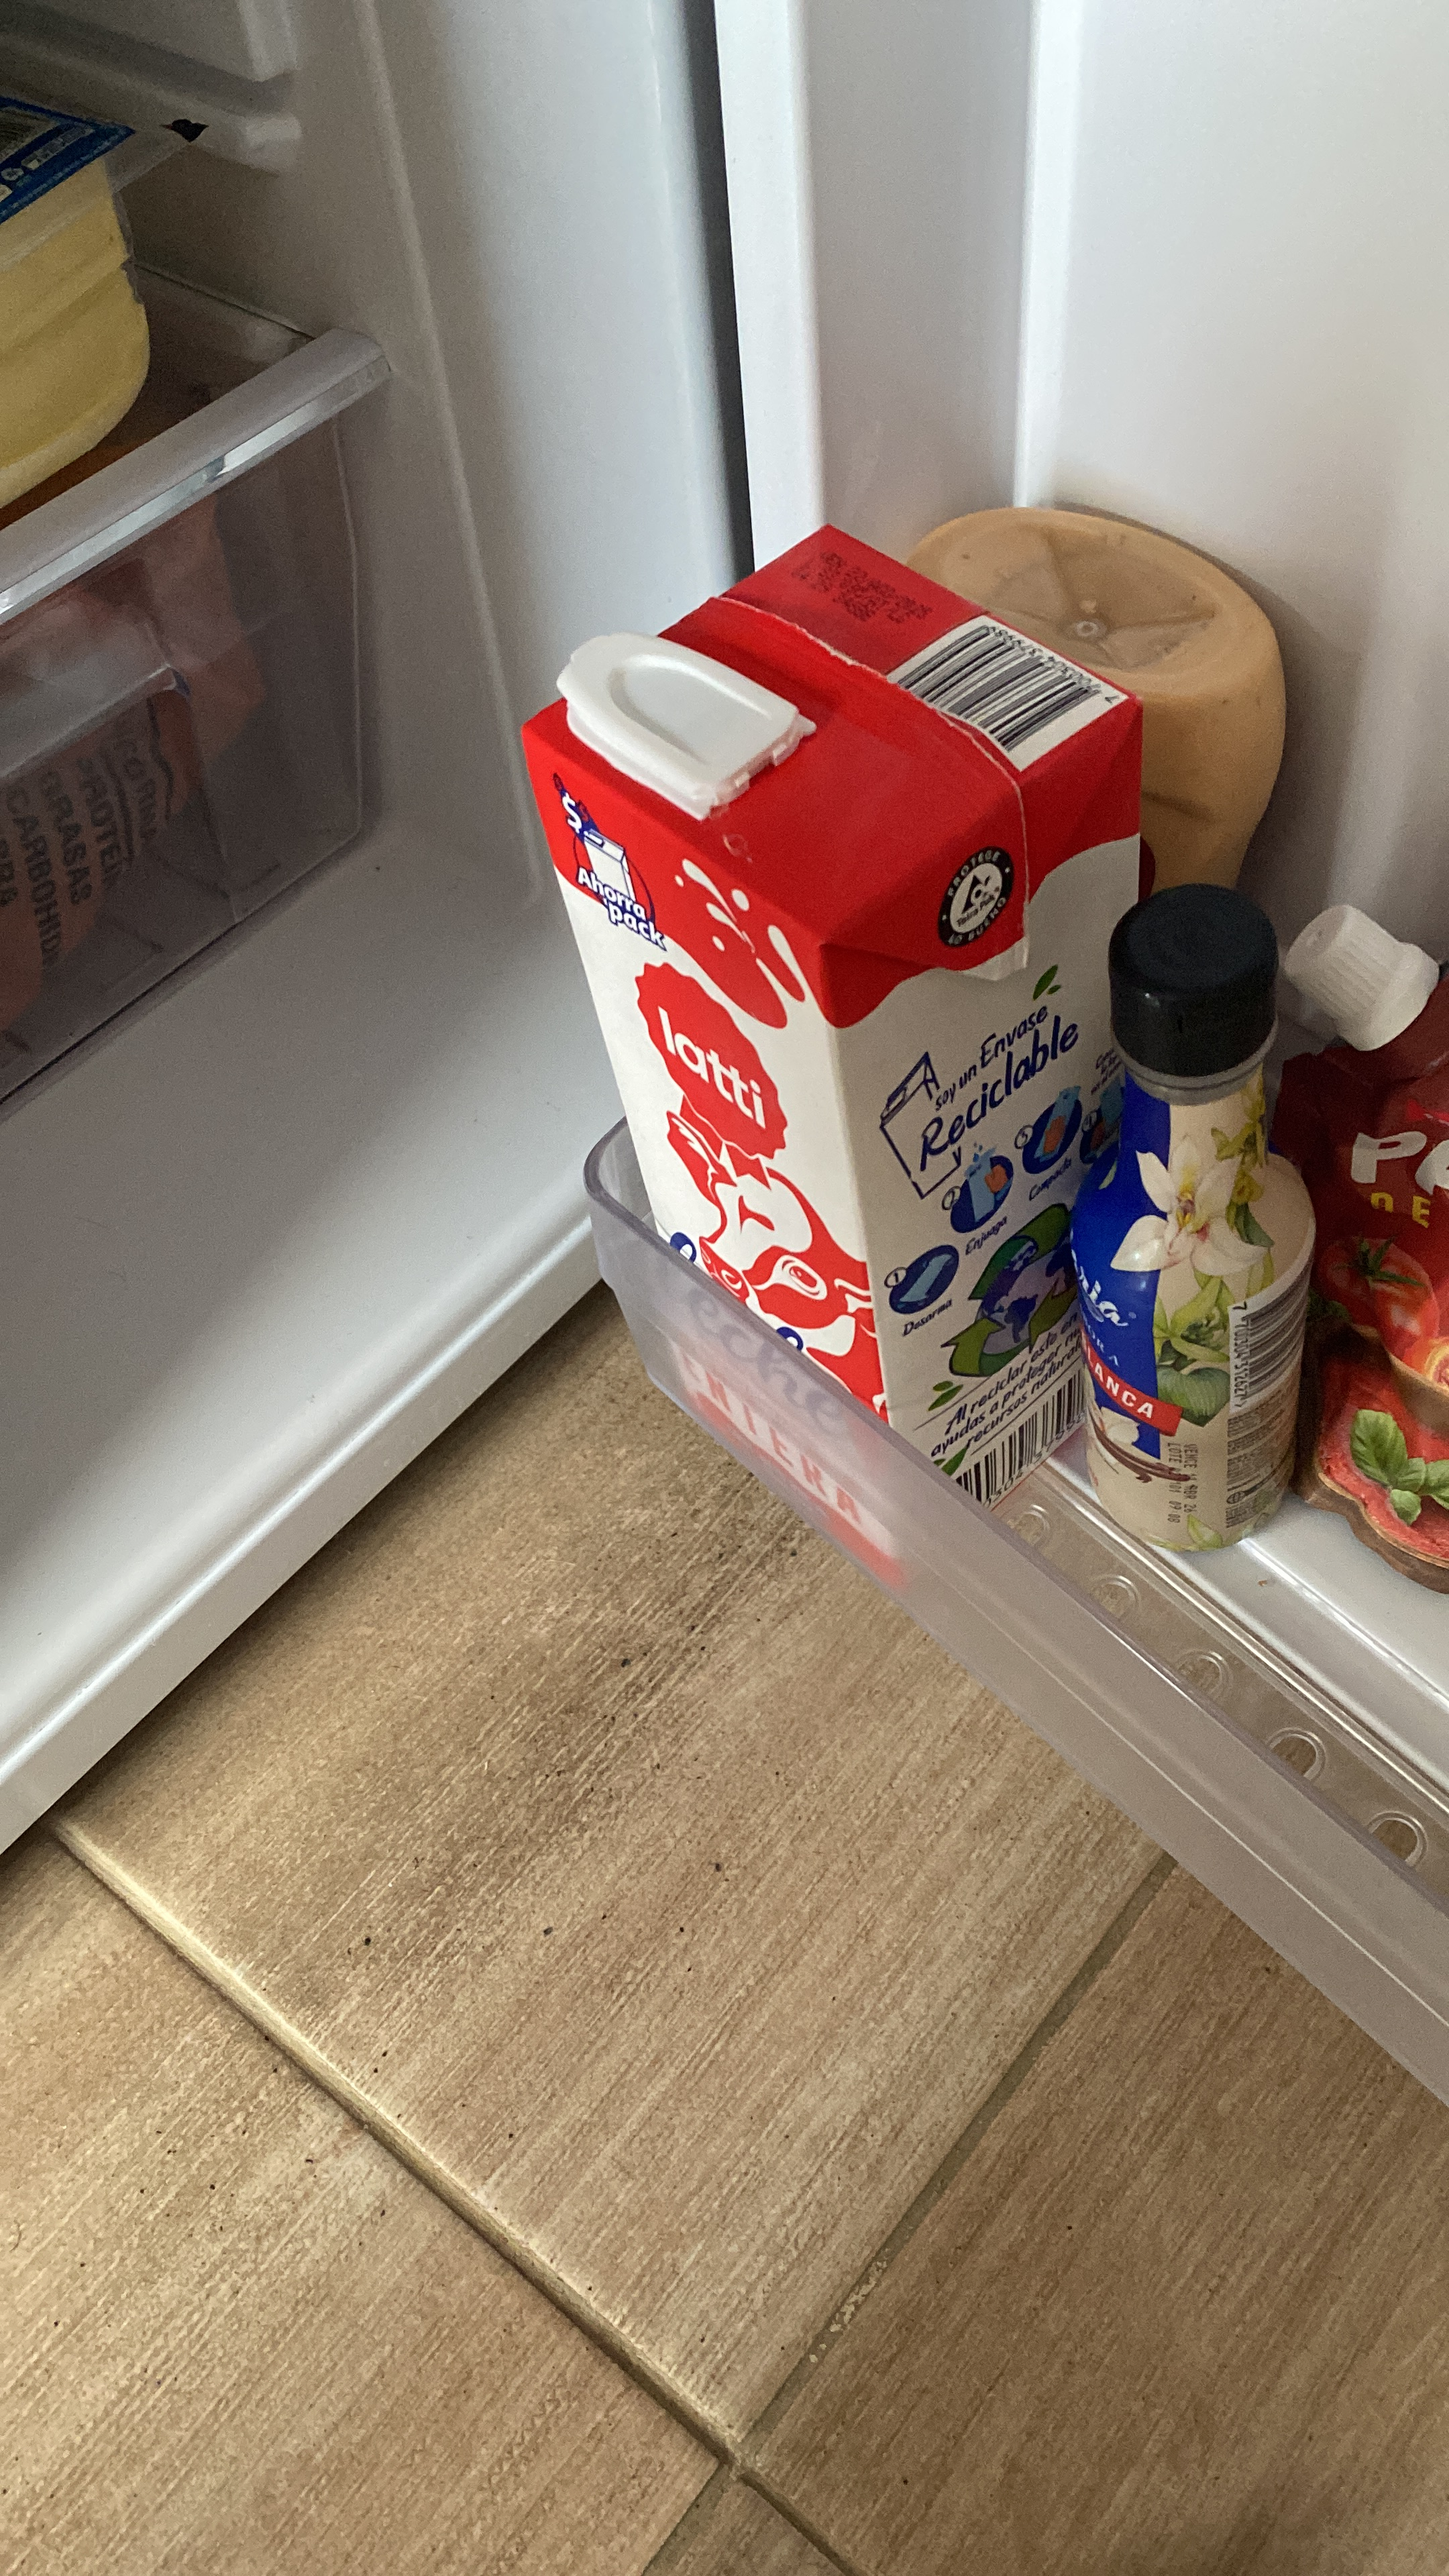Leche: (506, 497, 1150, 1592)
